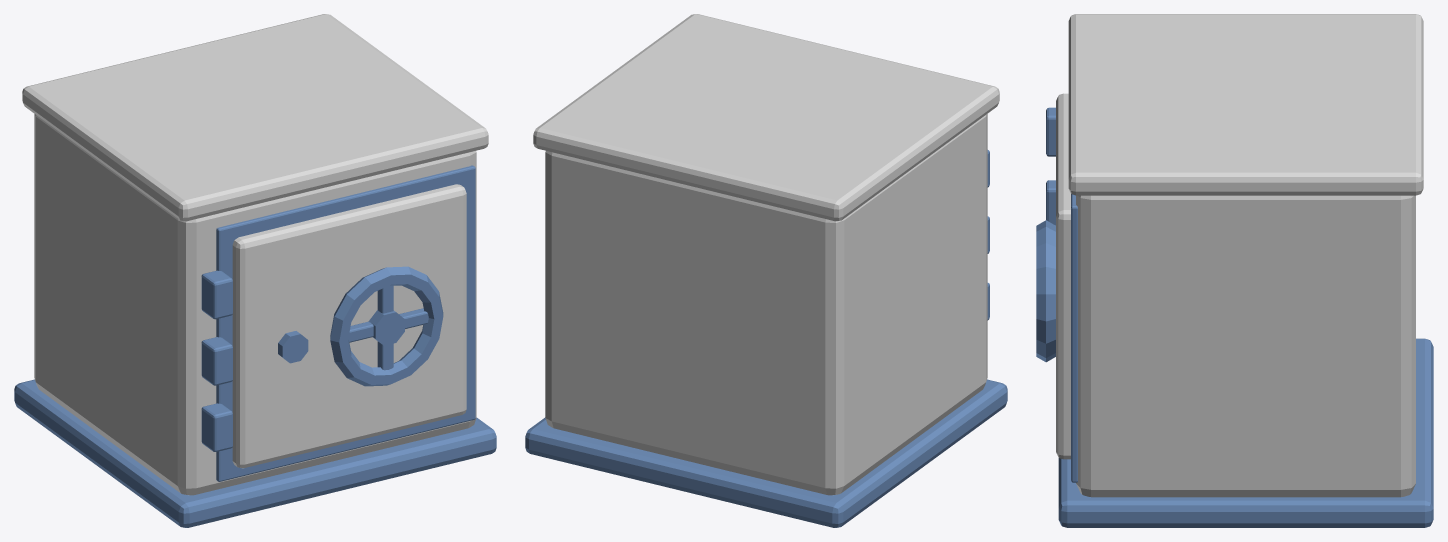
The model's file is vault.glb.
The picture shows the model from 3 angles, left to right: view 1: azimuth 30°, elevation 25°; view 2: azimuth 150°, elevation 25°; view 3: azimuth 270°, elevation 25°; orthographic projection. The views are drawn at different scales.
Parts seen in each view (by area): view 1: roof, body, door, plinth, door-seal, wheel, hinge.1, hinge.0, hinge.2, wheel-hub, spoke.1, spoke.0 (+1 smaller); view 2: body, roof, plinth; view 3: body, roof, plinth, door, wheel, door-seal, hinge.2.
Boxes of the visible parts, x1,y1,x2,y2 form: roof: (22, 14, 488, 221); body: (34, 114, 476, 495); door: (232, 184, 466, 468); plinth: (14, 379, 496, 527); door-seal: (216, 165, 475, 481); wheel: (330, 266, 443, 386); hinge.1: (201, 337, 232, 385); hinge.0: (201, 403, 232, 451); hinge.2: (201, 270, 232, 319); wheel-hub: (368, 310, 404, 345); spoke.1: (377, 285, 393, 370); spoke.0: (348, 308, 428, 342); body: (545, 114, 987, 495); roof: (533, 14, 999, 221); plinth: (525, 379, 1007, 527); body: (1076, 195, 1415, 497); roof: (1068, 14, 1423, 195); plinth: (1058, 338, 1433, 527); door: (1056, 93, 1070, 459); wheel: (1036, 220, 1055, 362); door-seal: (1071, 194, 1077, 482); hinge.2: (1046, 107, 1055, 156).
Bounding box in the file's own units: 1.6 × 1.56 × 1.59.
